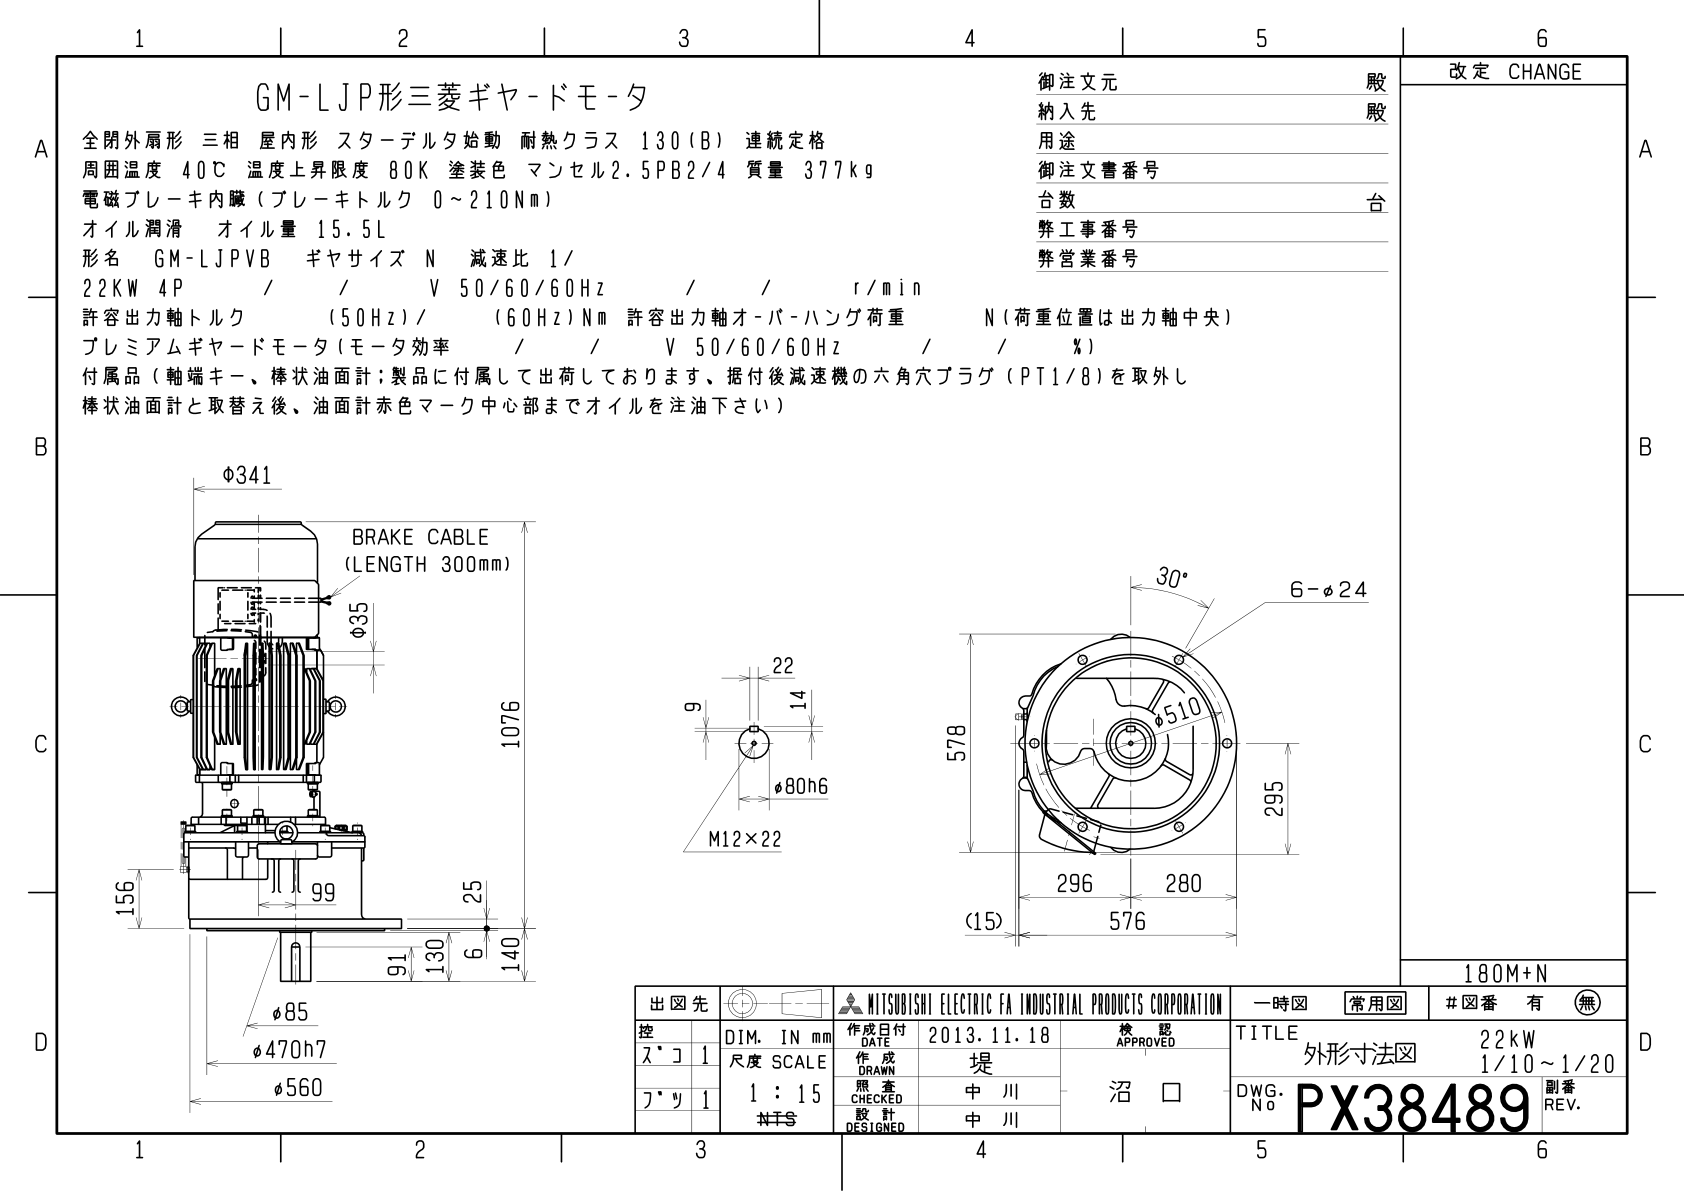GM_LJP_屋内_三相_立: (89, 434, 1385, 973)
